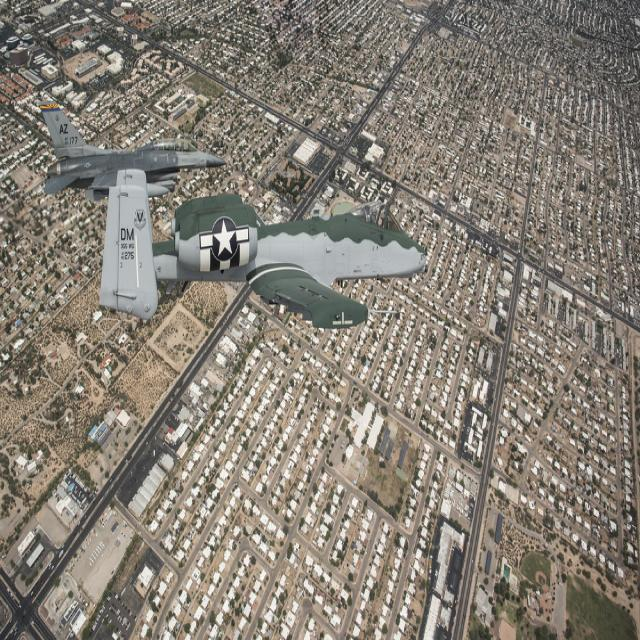MIL_Plane: (99, 168, 428, 330), (38, 100, 231, 202)
